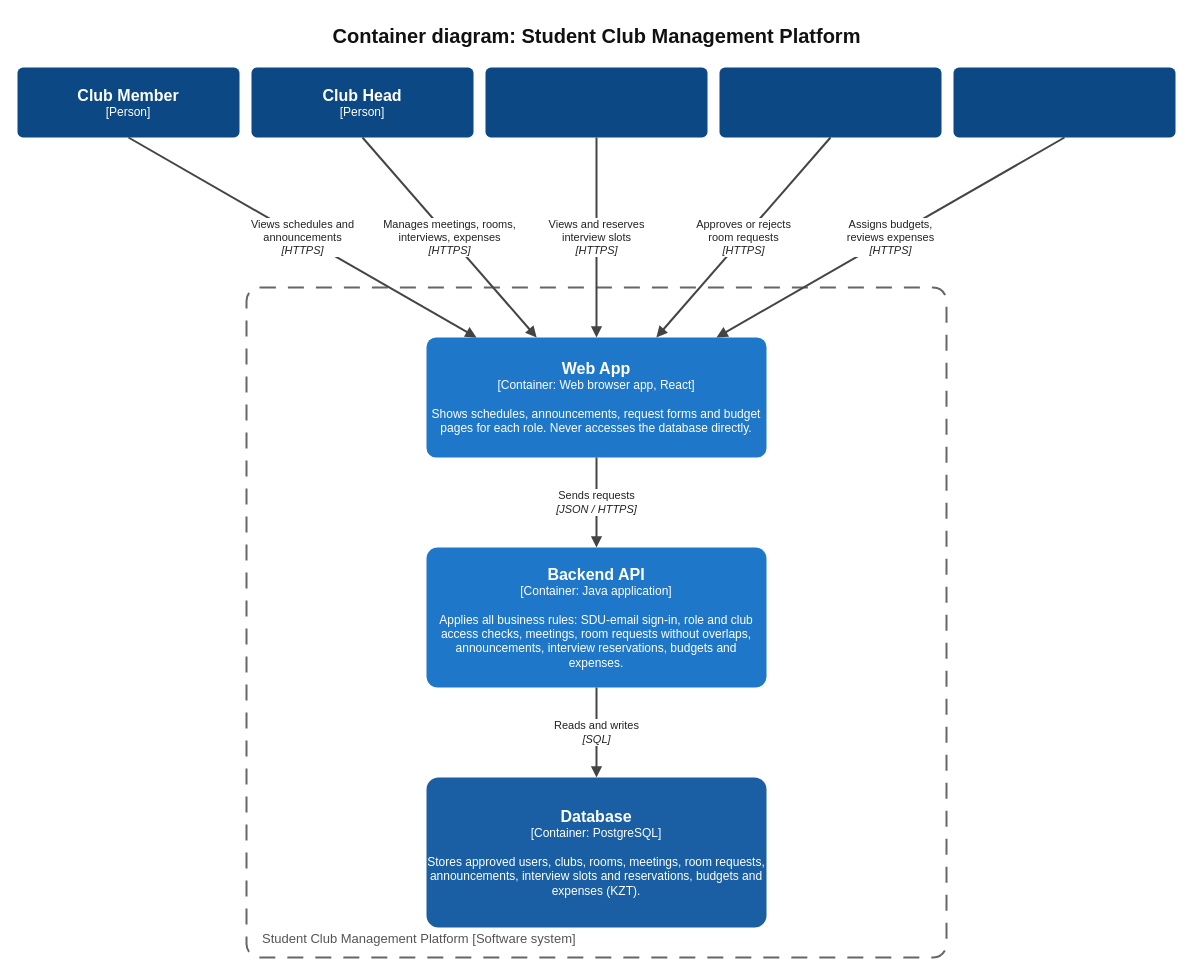
Some shapes in this 1192 by 975 pixel diagram are drawn without their labels. The shapes that lost their labels are listed below. From the top down, each one's centre as x and y in pixels, then its label:
At pixel 596 102: "Club Candidate [Person]".
At pixel 830 102: "Room Coordinator [Person]".
At pixel 1064 102: "University Finance Staff [Person]".
